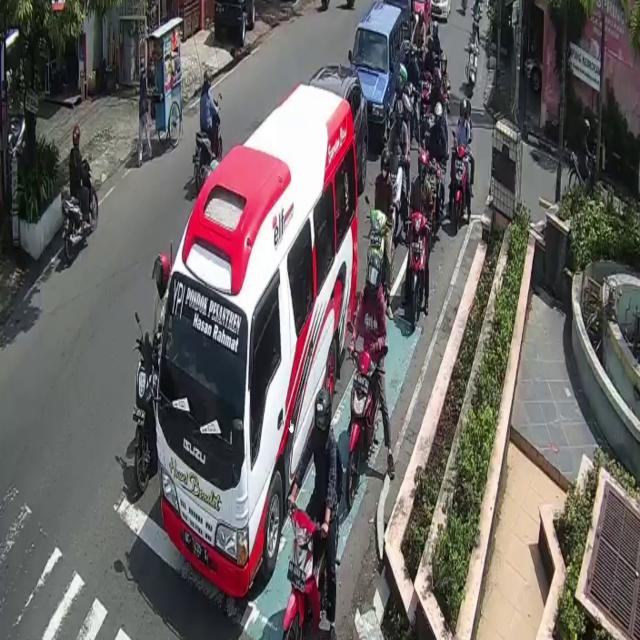bus: (285, 501, 332, 640), (349, 347, 380, 502), (60, 159, 97, 265), (134, 344, 159, 492), (363, 209, 390, 312), (190, 99, 222, 179), (409, 216, 427, 329), (569, 150, 599, 200), (452, 143, 468, 227), (467, 39, 480, 99)
car: (157, 82, 358, 594)
motorcycle: (351, 0, 407, 144), (312, 62, 370, 184)
